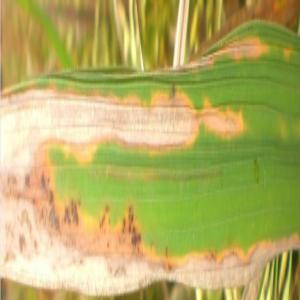Hawar Daun: (12, 82, 200, 162), (2, 219, 146, 298), (1, 130, 48, 232), (185, 238, 254, 292)
